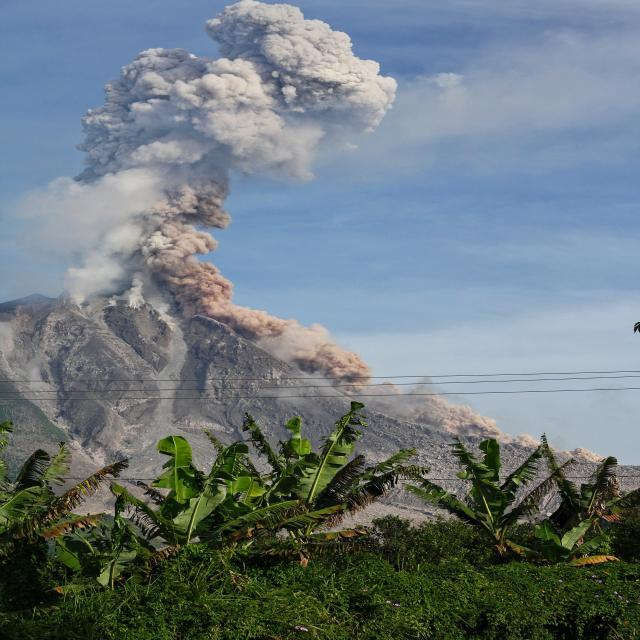Smoke: (70, 0, 407, 296)
